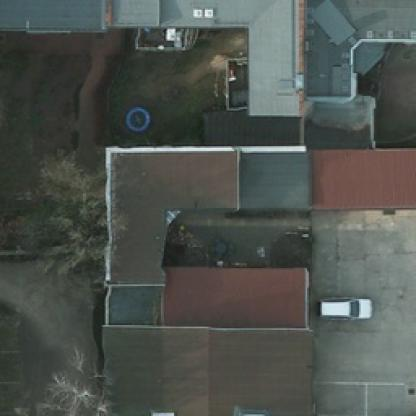car: (314, 292, 370, 318)
